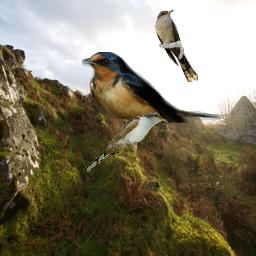Cuckoo: (83, 111, 169, 173), (155, 10, 198, 82)
Swallow: (82, 52, 226, 123)
